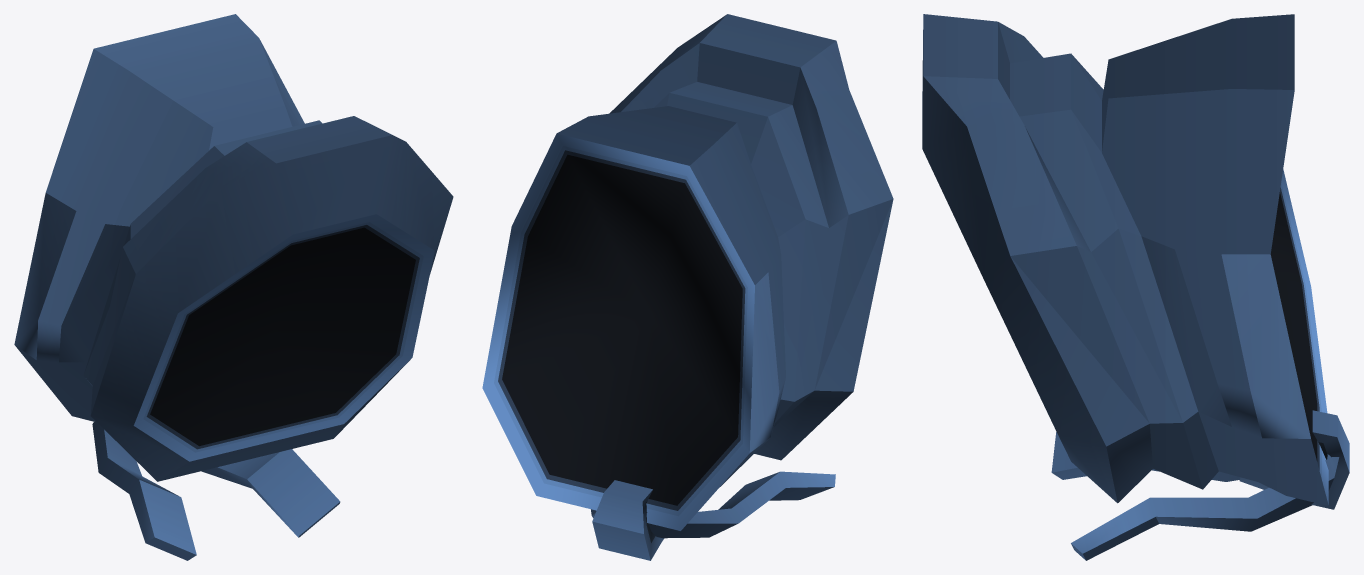
The model's file is FaceMask_F.glb.
The picture shows the model from 3 angles, left to right: view 1: azimuth 30°, elevation 25°; view 2: azimuth 150°, elevation 25°; view 3: azimuth 270°, elevation 25°; orthographic projection. The views are drawn at different scales.
Parts seen in each view (by area): view 1: FaceMask_F_NeckWrap, FaceMask_F; view 2: FaceMask_F, FaceMask_F_NeckWrap; view 3: FaceMask_F, FaceMask_F_NeckWrap.
Boxes of the visible parts, bbox=[...] form: FaceMask_F_NeckWrap: bbox=[83, 116, 453, 481]; FaceMask_F: bbox=[14, 14, 340, 560]; FaceMask_F: bbox=[482, 106, 835, 560]; FaceMask_F_NeckWrap: bbox=[609, 14, 893, 460]; FaceMask_F: bbox=[1051, 14, 1349, 560]; FaceMask_F_NeckWrap: bbox=[922, 14, 1218, 503].
Size of the model in its own units: 0.2204 by 0.2978 by 0.2329.
1 material, 1 textured.
